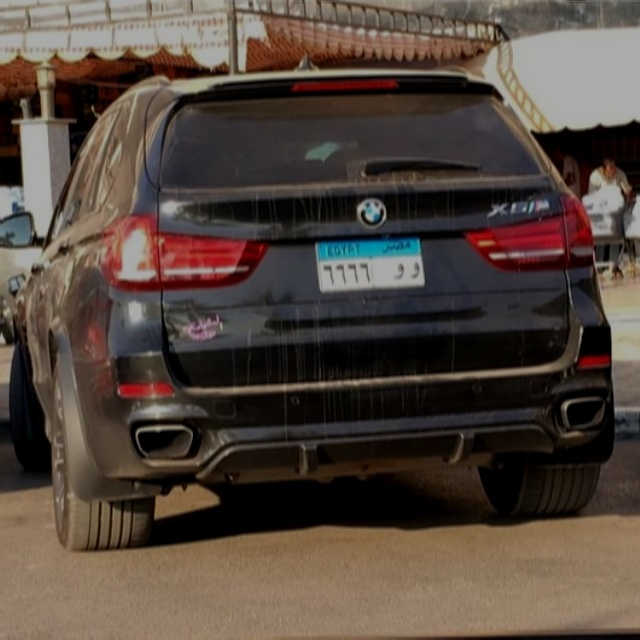License Plate: (312, 233, 428, 296)
